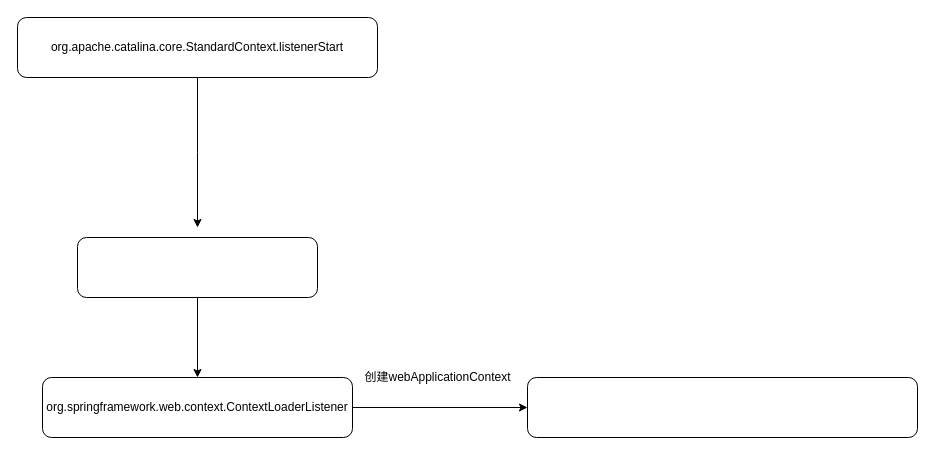
The diagram is 951 pixels wide and 455 high, and some of its shapes have lost their labels. The shapes that lost their labels are listed below. From the top down, each one's centre as x and y in pixels, then its label:
At pixel 197 267: "listener.contextInitialized(event)".
At pixel 722 407: "WebApplicationContext initWebApplicationContext（）".
